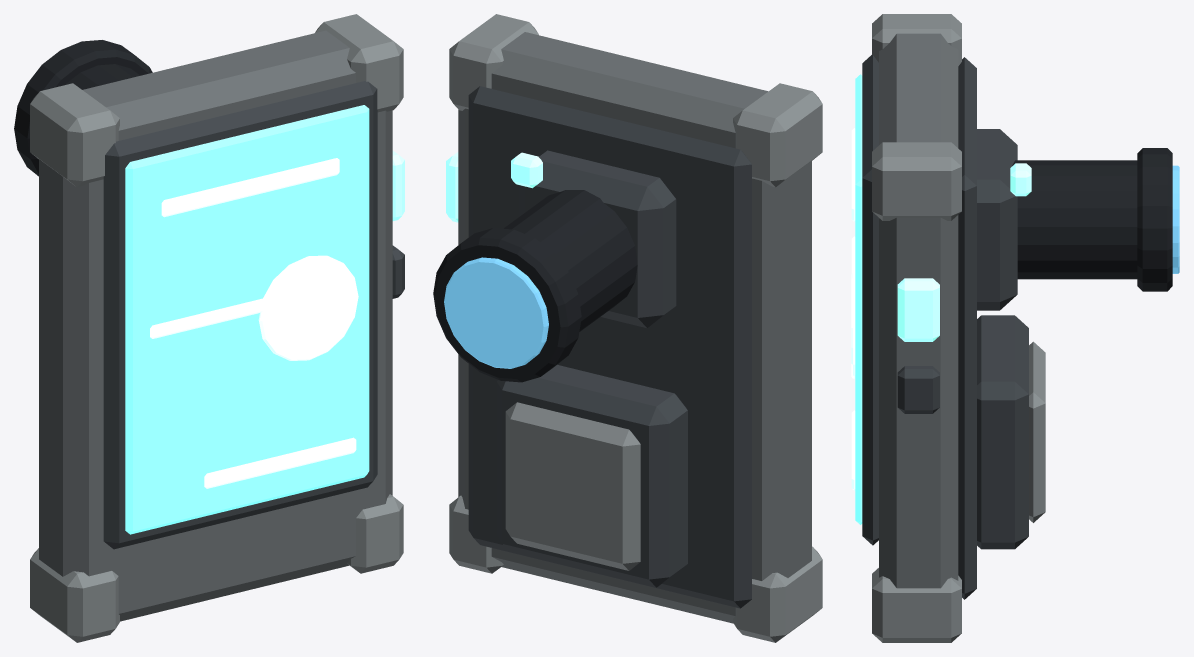
File: FTF_Tool_HandheldScanner_Tablet_v1.glb
3 renders of one model, left to right at view 1: azimuth 30°, elevation 25°; view 2: azimuth 150°, elevation 25°; view 3: azimuth 270°, elevation 25°, orthographic. The views are drawn at different scales.
Visible parts, largest first — view 1: FTF_Tool_HandheldScanner_Tablet_v1_Static; view 2: FTF_Tool_HandheldScanner_Tablet_v1_Static; view 3: FTF_Tool_HandheldScanner_Tablet_v1_Static.
Part boxes in pixels (<box>): FTF_Tool_HandheldScanner_Tablet_v1_Static: <box>14,14,404,642</box>; FTF_Tool_HandheldScanner_Tablet_v1_Static: <box>433,14,822,642</box>; FTF_Tool_HandheldScanner_Tablet_v1_Static: <box>851,14,1179,642</box>.
Size of the model in its own units: 0.212 by 0.304 by 0.1863.
